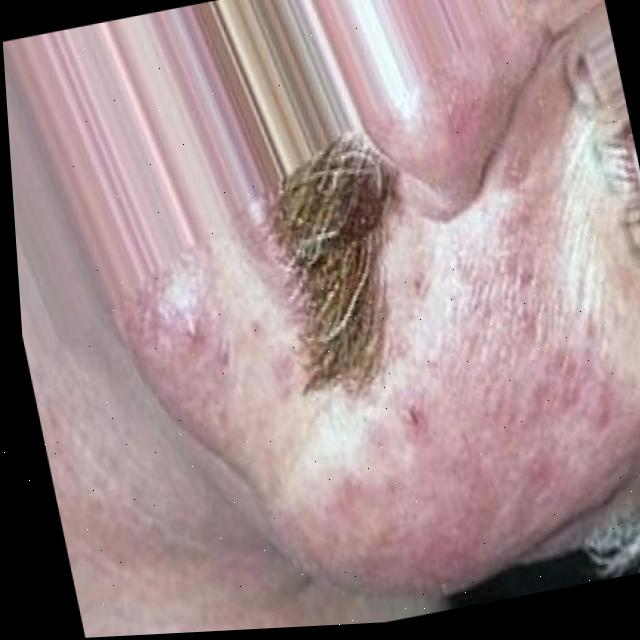Rosacea: (298, 262, 640, 600)
